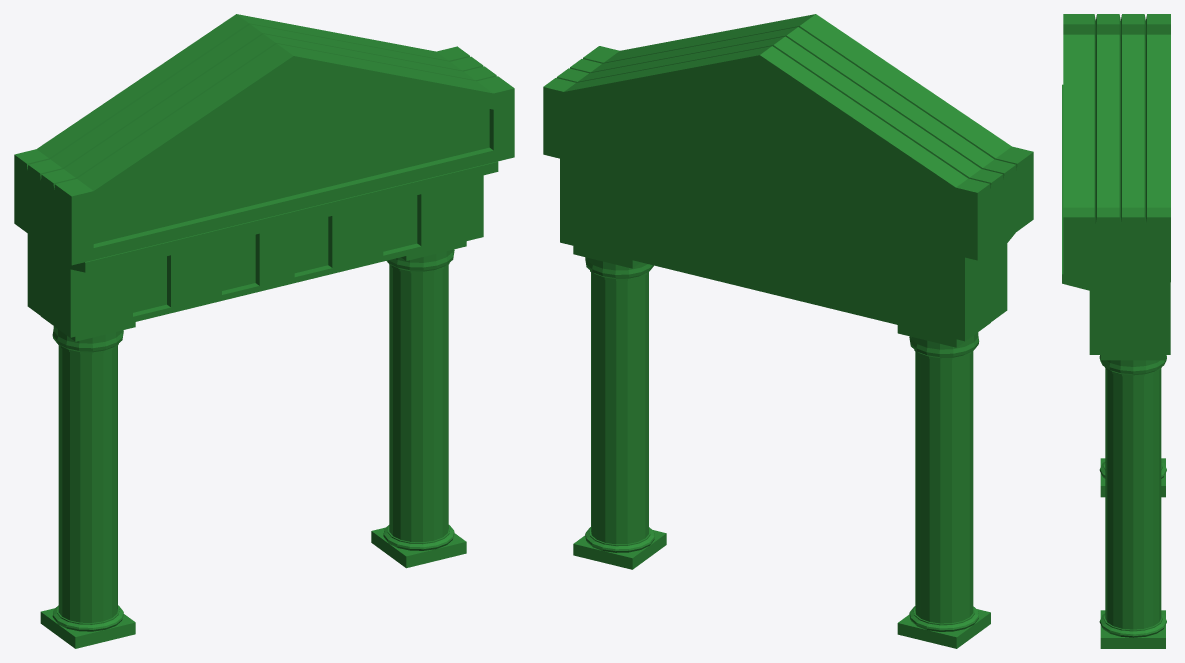
File: greenarch.glb
The picture shows the model from 3 angles, left to right: view 1: azimuth 30°, elevation 25°; view 2: azimuth 150°, elevation 25°; view 3: azimuth 270°, elevation 25°; orthographic projection. The views are drawn at different scales.
Parts seen in each view (by area): view 1: Plane; view 2: Plane; view 3: Plane.
Part boxes in pixels (x1=…): Plane: x1=14, y1=14, x2=514, y2=648; Plane: x1=543, y1=14, x2=1033, y2=648; Plane: x1=1062, y1=14, x2=1170, y2=648.
Bounding box in the file's own units: 6.62 × 7.99 × 1.5.
